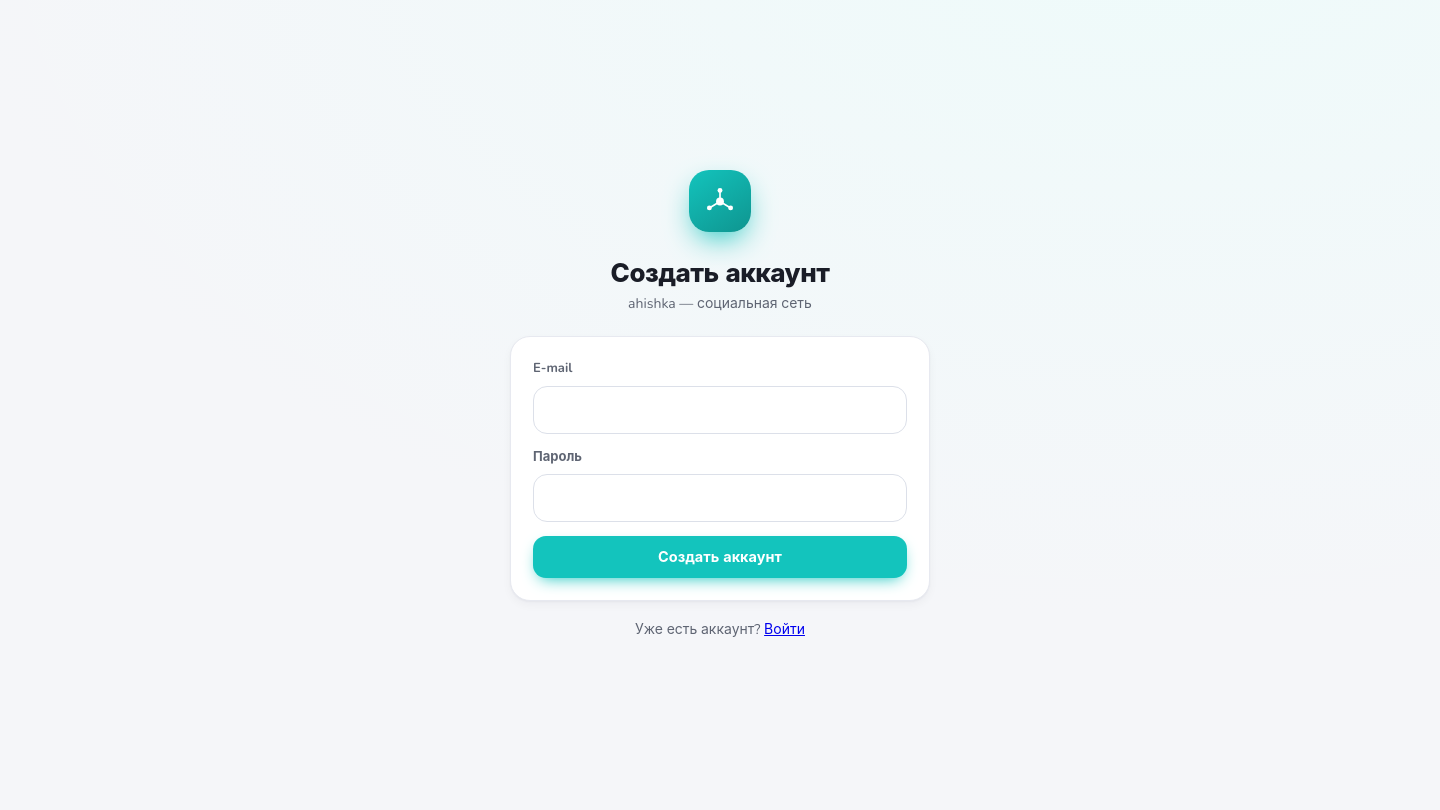
Test: после регистрации /me ретраится, пока NATS не заведёт профиль
Expected: the heading "Создать аккаунт" is shown, [611,256,829,291]
In the field labelled "E-mail": (720, 410) [533,386,907,434], type "new@example.com"
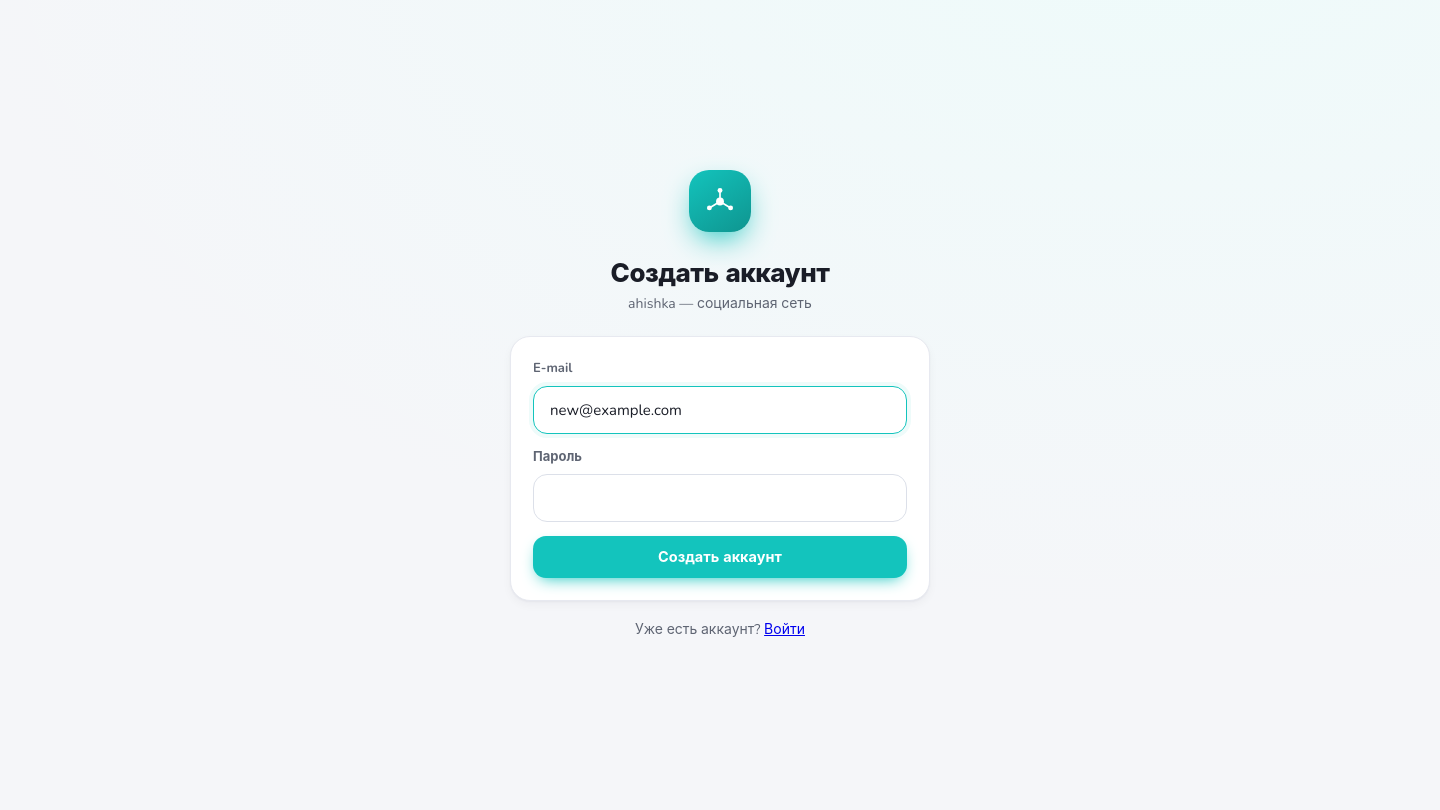
In the password field labelled "Пароль": (720, 498) [533,474,907,522], type "password123"
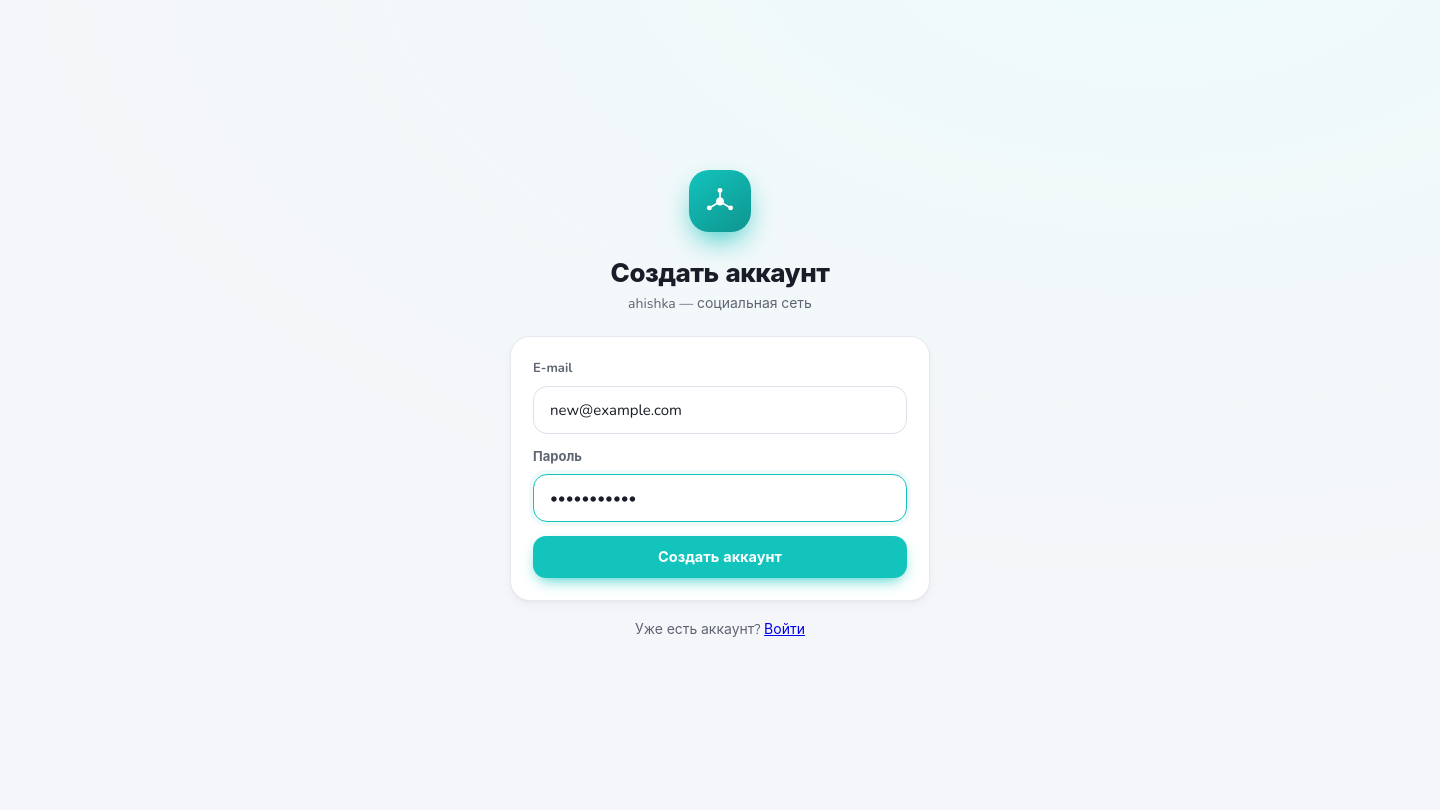
Click the button "Создать аккаунт": (720, 557) [533,536,907,578]
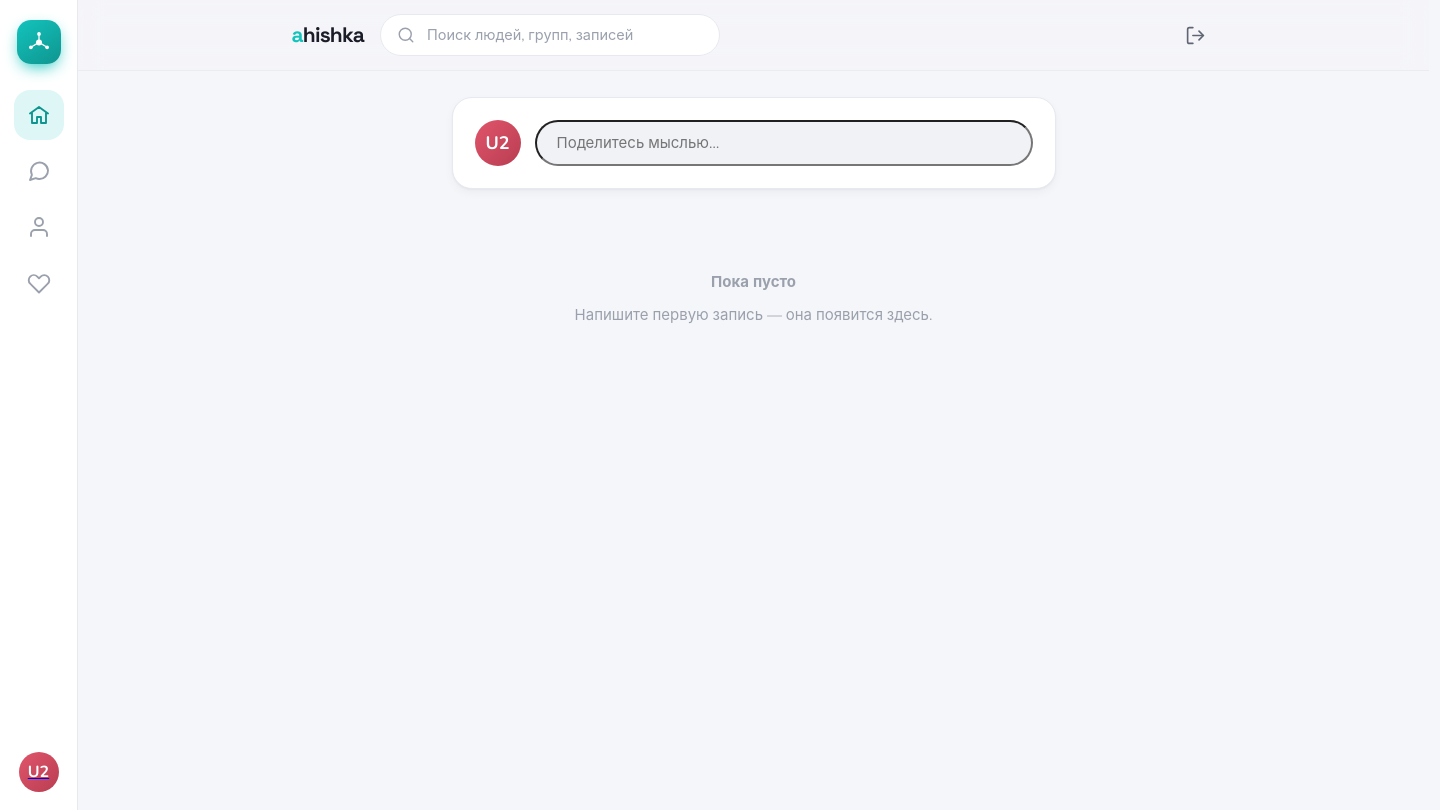
Result: the field with placeholder "Поделитесь мыслью…" is shown at [534,120,1032,166]
